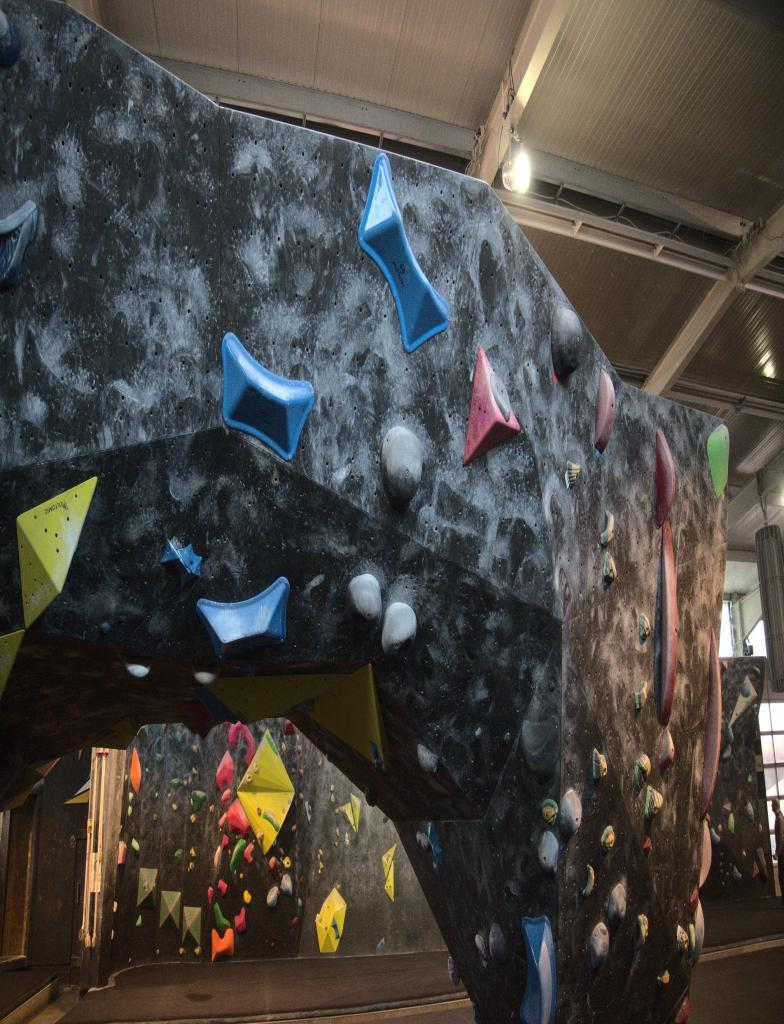crimp: (161, 538, 202, 586)
jib: (489, 922, 507, 963), (600, 826, 614, 852)
jug: (707, 425, 729, 496), (634, 754, 651, 795), (645, 786, 663, 821), (592, 748, 607, 780), (126, 661, 149, 681), (600, 511, 613, 546), (603, 553, 617, 582), (634, 681, 647, 711), (566, 462, 580, 486), (639, 613, 650, 643), (191, 790, 206, 811), (194, 671, 217, 684)
ledge: (358, 154, 449, 352), (221, 332, 314, 460), (197, 577, 290, 657), (521, 718, 558, 781)
sidepull: (699, 629, 721, 819), (659, 521, 678, 726), (521, 916, 556, 1023), (656, 428, 675, 527), (594, 369, 615, 453), (698, 821, 712, 888), (660, 727, 675, 775), (129, 748, 141, 793)
sloper: (381, 425, 422, 510), (551, 306, 582, 380), (346, 574, 381, 628), (382, 602, 416, 654), (559, 788, 581, 834), (589, 922, 609, 970), (538, 831, 558, 873), (608, 883, 626, 927), (417, 744, 438, 772)
tape: (565, 471, 570, 489), (552, 370, 557, 384), (595, 448, 599, 458)
undercling: (463, 345, 521, 465), (216, 751, 234, 788)
volume: (17, 477, 97, 628), (312, 665, 387, 770), (239, 730, 294, 853), (316, 888, 346, 953), (159, 891, 181, 930), (137, 867, 157, 908), (182, 906, 201, 946), (35, 335, 40, 350)
